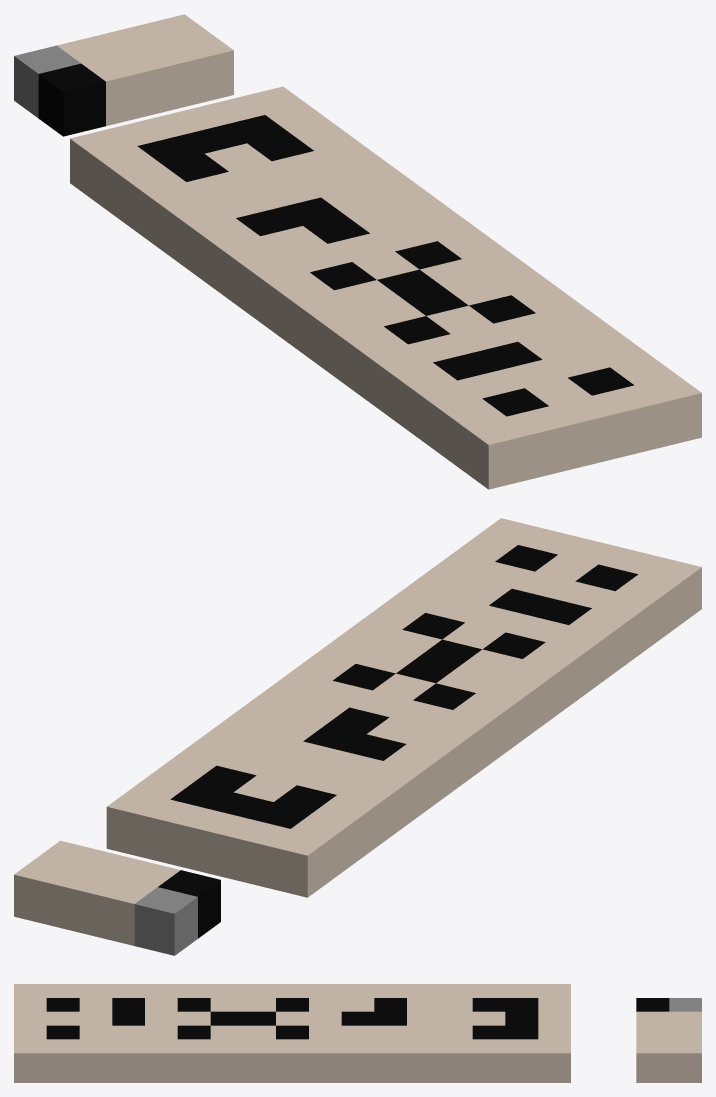
Rendered from keyboardMouse.obj.
3 renders of one model, top to bottom at view 1: azimuth 30°, elevation 25°; view 2: azimuth 150°, elevation 25°; view 3: azimuth 270°, elevation 25°, orthographic. The views are drawn at different scales.
Bounding box in the file's own units: 0.5 × 0.1 × 2.1.
1 material, 1 textured.
